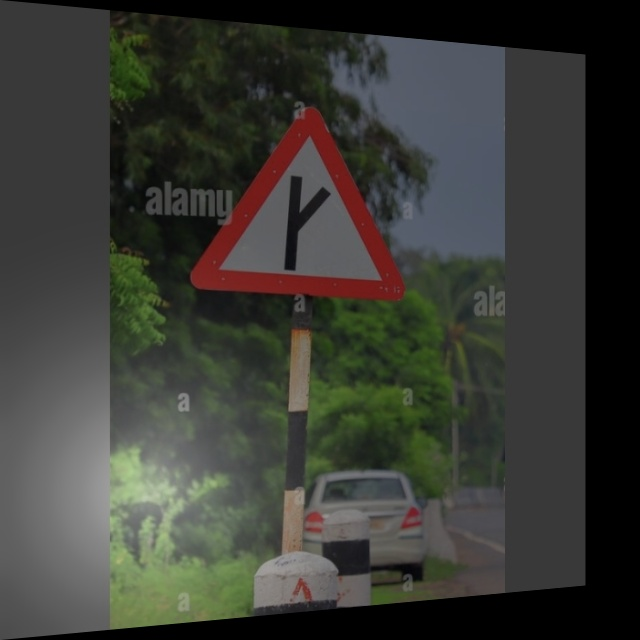Y_Intersection: (190, 96, 414, 305)
